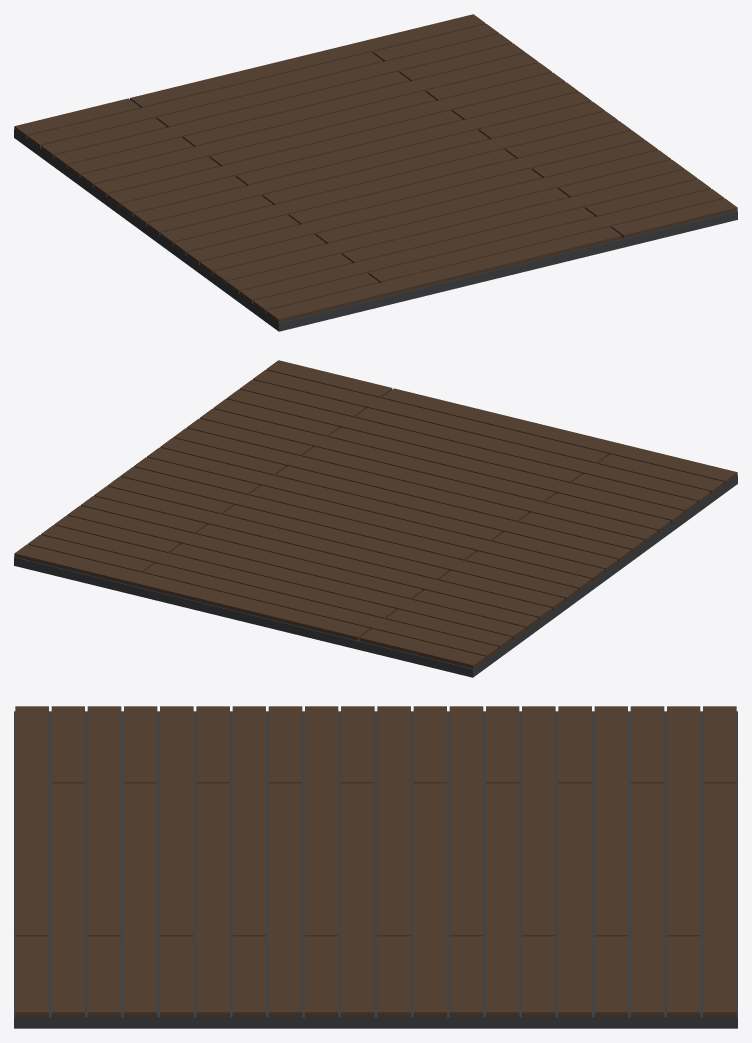
File: SM_Floor_Wood.fbx
The picture shows the model from 3 angles, top to bottom: view 1: azimuth 30°, elevation 25°; view 2: azimuth 150°, elevation 25°; view 3: azimuth 270°, elevation 25°; orthographic projection. The views are drawn at different scales.
Visible parts, largest first — view 1: SM_Floor_Wood; view 2: SM_Floor_Wood; view 3: SM_Floor_Wood.
Boxes of the visible parts, x1,y1,x2,y2 form: SM_Floor_Wood: (14,14,737,331); SM_Floor_Wood: (14,360,737,677); SM_Floor_Wood: (14,706,737,1028).
Size of what is drawn, in the model's own units: 4 by 0.1 by 4.
